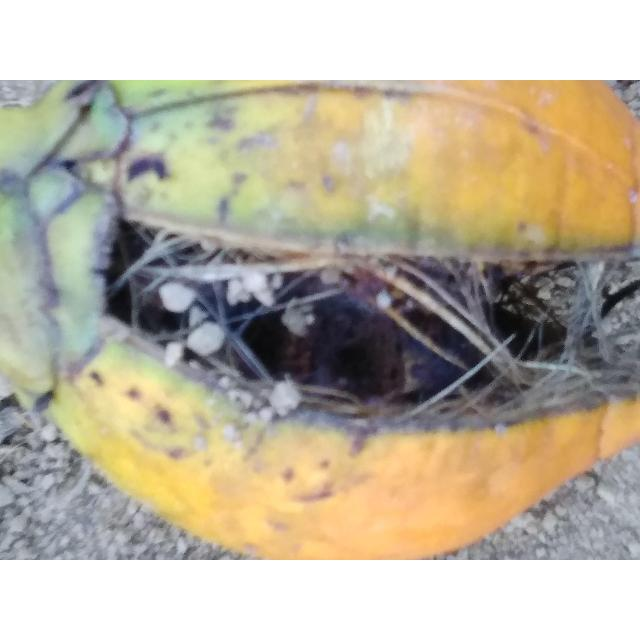damaged: (0, 80, 640, 560)
